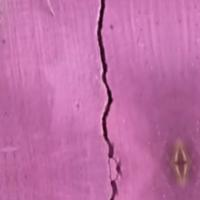crack: (72, 1, 142, 199)
